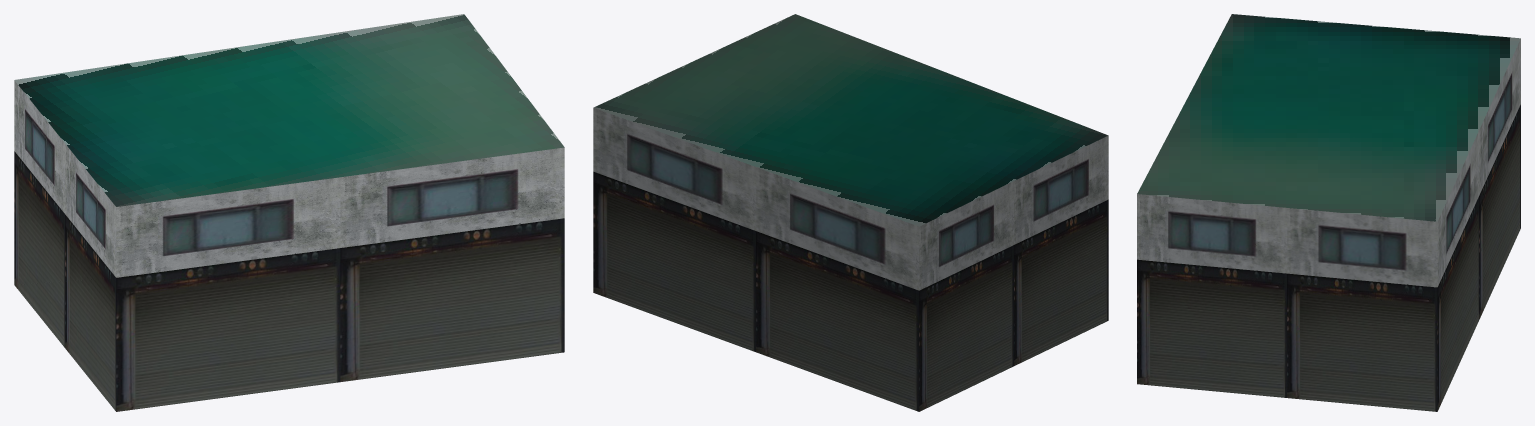
Rendered from T_1SWRN4NXTH.dae.
3 renders of one model, left to right at view 1: azimuth 30°, elevation 25°; view 2: azimuth 150°, elevation 25°; view 3: azimuth 270°, elevation 25°, orthographic. The views are drawn at different scales.
Visible parts, largest first — view 1: SketchUp (×5); view 2: SketchUp (×5); view 3: SketchUp (×5).
Boxes of the visible parts, x1=… form: SketchUp (×5): x1=14, y1=14, x2=564, y2=411; SketchUp (×5): x1=593, y1=14, x2=1108, y2=411; SketchUp (×5): x1=1137, y1=14, x2=1520, y2=411.
Size of the model in its own units: 11.81 by 9.22 by 5.04.
3 materials, 3 textured.
